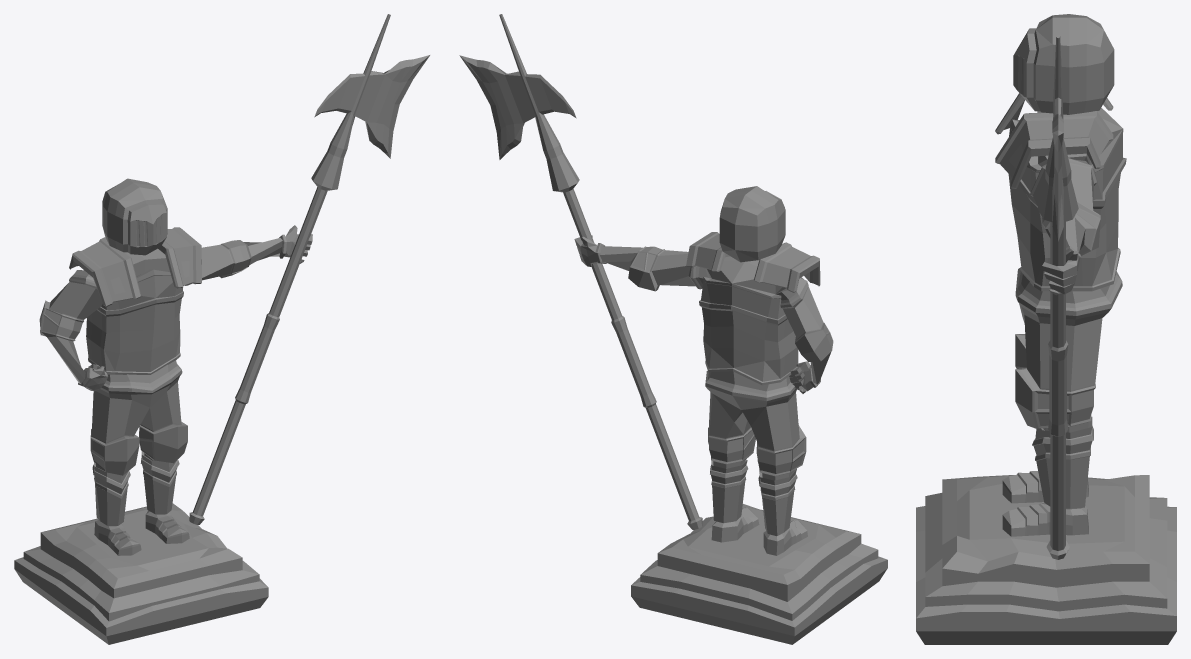
File: KnightStatueAxeLeft.fbx
3 views of the same model, side by side, from view 1: azimuth 30°, elevation 25°; view 2: azimuth 150°, elevation 25°; view 3: azimuth 270°, elevation 25° (orthographic). The views are drawn at different scales.
Visible parts, largest first — view 1: KnightStatueAxeLeft; view 2: KnightStatueAxeLeft; view 3: KnightStatueAxeLeft.
Boxes of the visible parts, x1=… form: KnightStatueAxeLeft: x1=14, y1=14, x2=429, y2=644; KnightStatueAxeLeft: x1=459, y1=14, x2=887, y2=644; KnightStatueAxeLeft: x1=916, y1=14, x2=1176, y2=644.
Size of the model in its own units: 222 by 288 by 93.17.
Materials: 1 (1 with a texture image).
